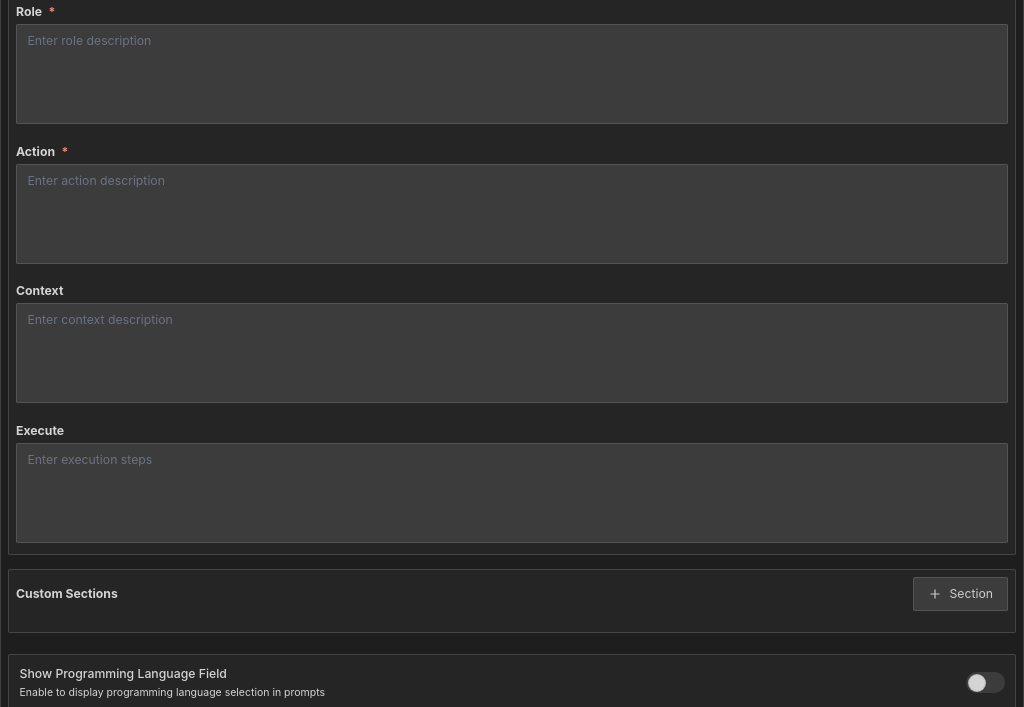
Scenario: CreateTemplateModal › Custom Section Management › should close section form when X button is clicked
The image size is (1024, 707).
(page scrolled)
// Open the section form
Click the button "Section" at x=961, y=594, box [913,577,1008,610]
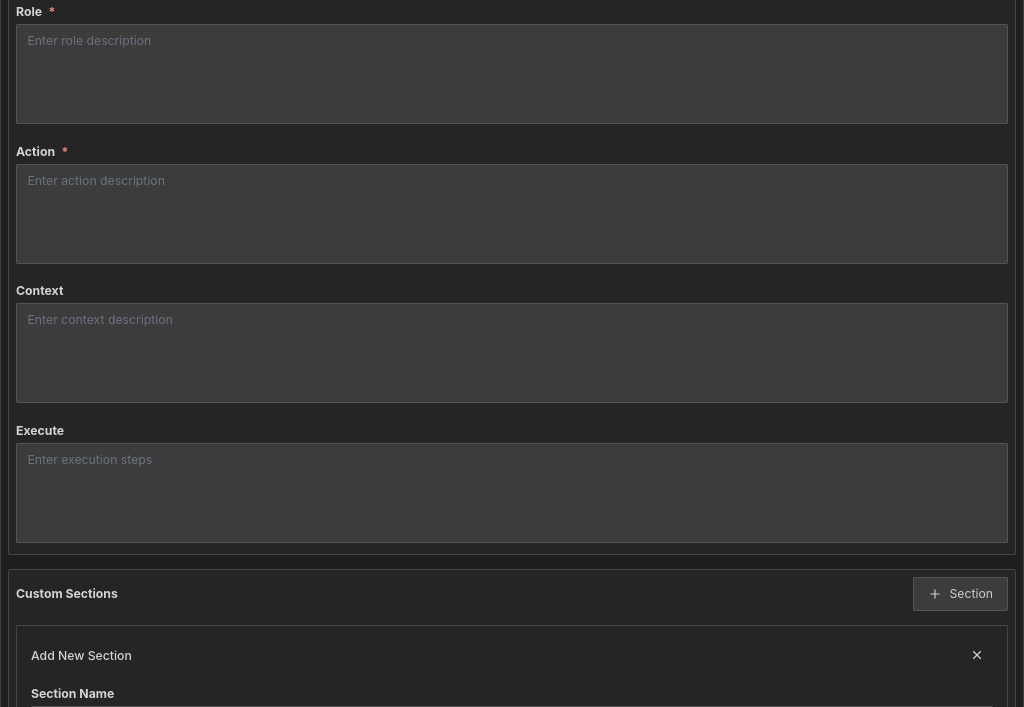
Now the heading "Add New Section" is shown, box [31,646,132,664]
// Click the X button (first button with empty name)
Click the 3rd button at x=977, y=655, box [962,640,993,671]
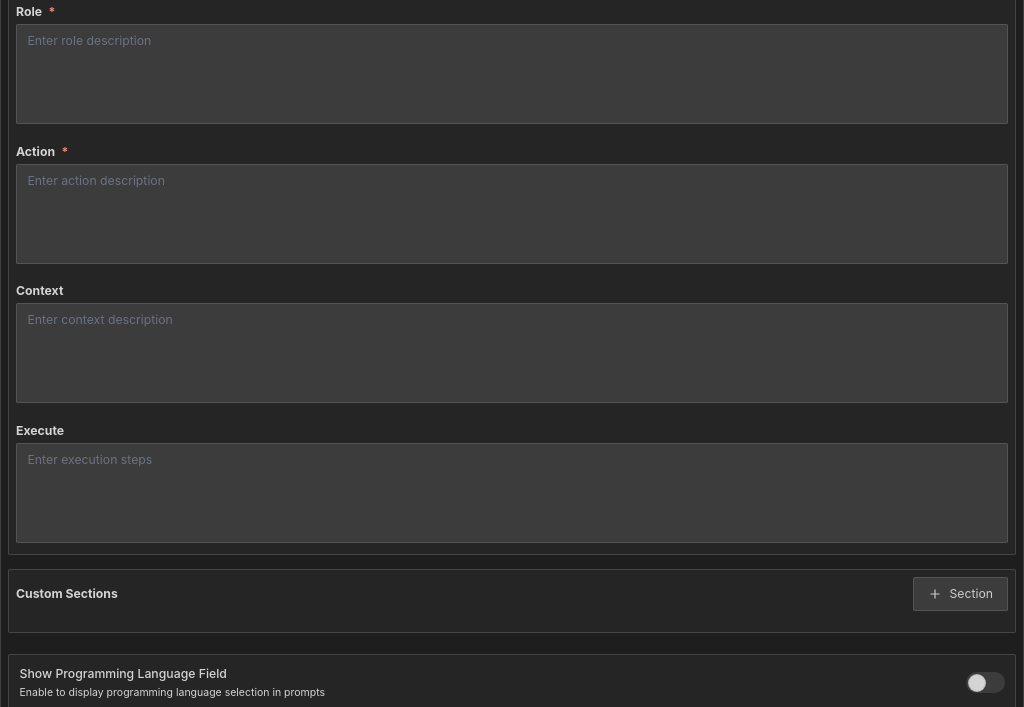
Now the heading "Add New Section" is gone
